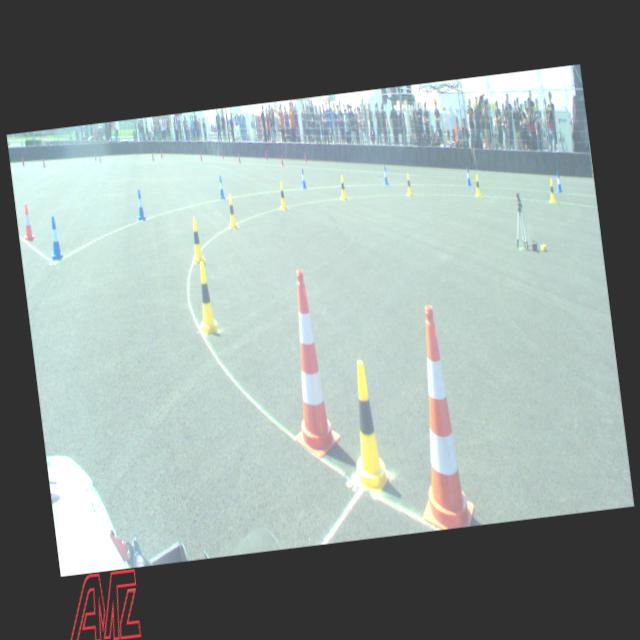blue_cone: (46, 214, 64, 258), (134, 189, 146, 220), (217, 175, 225, 199), (554, 171, 562, 193), (464, 166, 471, 186), (382, 164, 388, 184), (300, 168, 306, 188)
large_orange_cone: (398, 303, 476, 532), (274, 267, 341, 461)
orange_cone: (20, 203, 36, 241)
unknown_cone: (280, 154, 283, 166), (42, 156, 45, 168), (264, 149, 267, 160), (98, 154, 102, 162), (220, 148, 223, 158), (199, 151, 202, 161), (238, 153, 240, 163), (304, 152, 306, 162), (160, 148, 162, 158), (152, 151, 154, 161), (94, 152, 96, 161), (22, 157, 24, 166)
yellow_cone: (341, 357, 392, 495), (193, 260, 219, 334), (188, 216, 206, 264), (225, 193, 238, 229), (277, 180, 287, 210), (546, 177, 556, 203), (338, 174, 347, 200), (404, 172, 412, 195), (473, 174, 481, 197)
